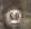limite 60: (3, 5, 24, 26)
